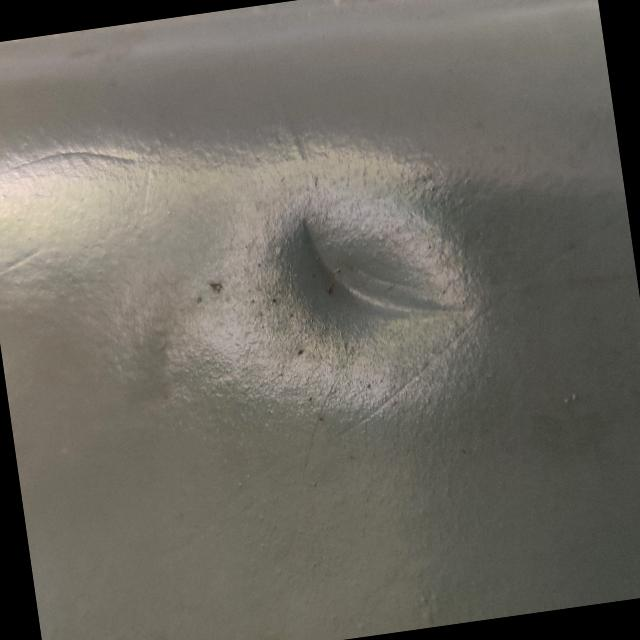dent: (248, 157, 530, 399)
